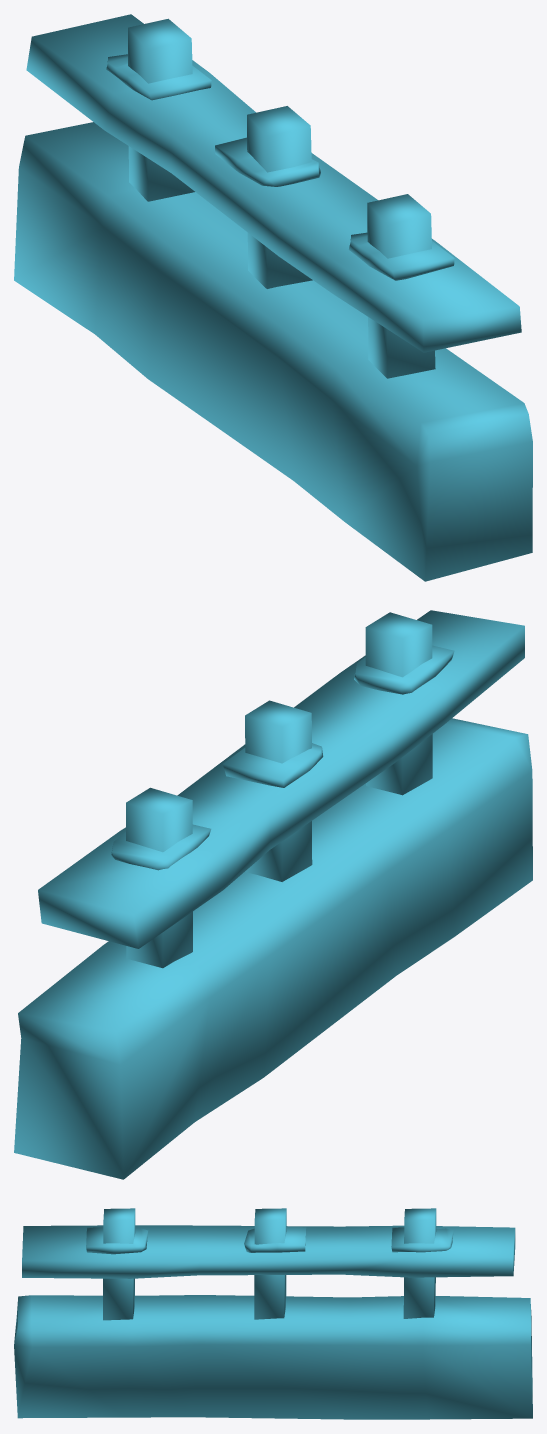
The model's file is Wall.FBX.
3 renders of one model, top to bottom at view 1: azimuth 30°, elevation 25°; view 2: azimuth 150°, elevation 25°; view 3: azimuth 270°, elevation 25°, orthographic. The views are drawn at different scales.
Visible parts, largest first — view 1: wall_elem_006; view 2: wall_elem_006; view 3: wall_elem_006.
Part boxes in pixels (x1,y1,x2,y2): wall_elem_006: [14, 14, 532, 581]; wall_elem_006: [14, 610, 532, 1179]; wall_elem_006: [14, 1208, 532, 1419].
Size of the model in its own units: 42.38 by 105 by 259.
